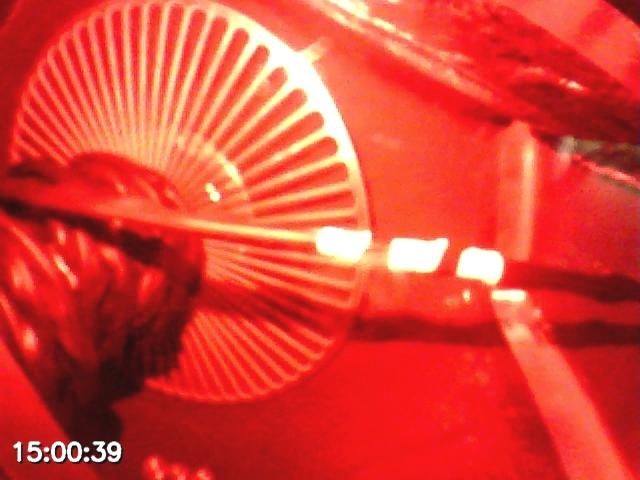white-dots: (314, 226, 504, 288)
